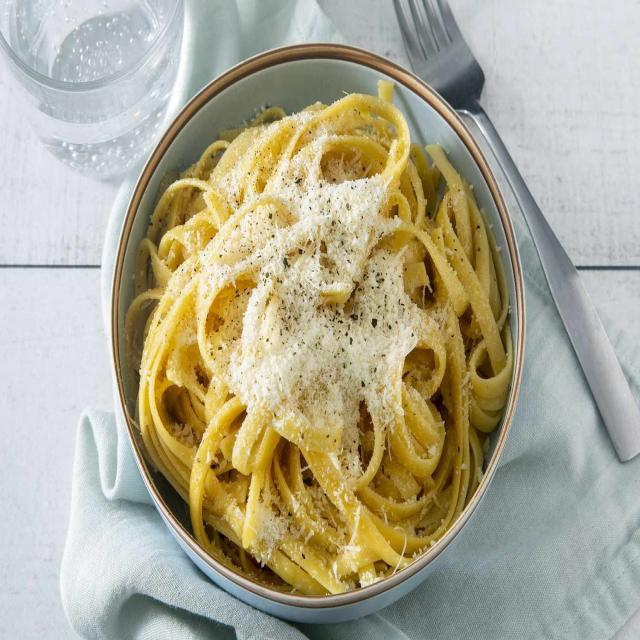noodle: (131, 92, 513, 600)
